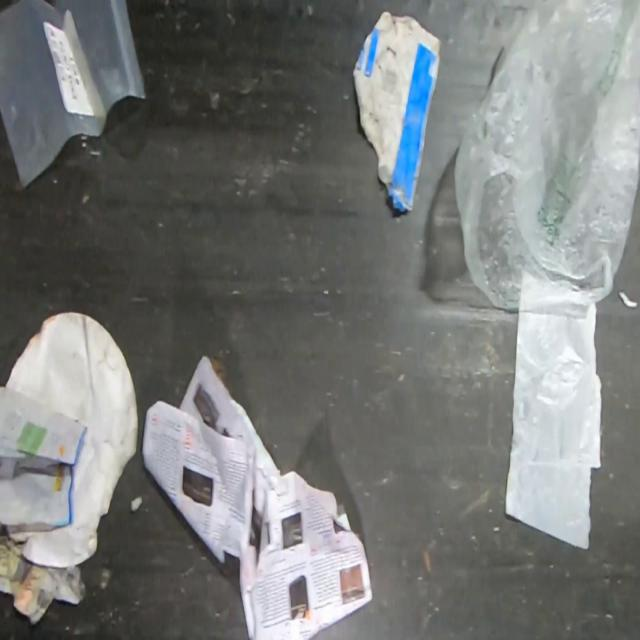cardboard: (3, 310, 140, 570), (352, 9, 442, 217)
soft_plastic: (453, 0, 640, 552), (0, 0, 150, 192), (504, 304, 604, 552)
